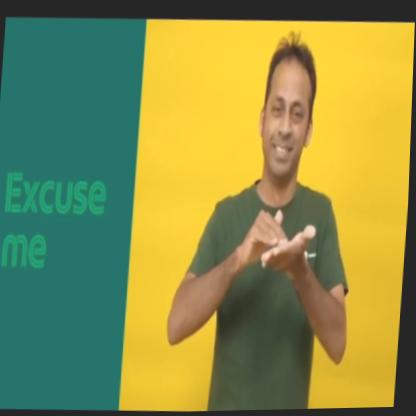ExcuseMe: (162, 30, 371, 413)
